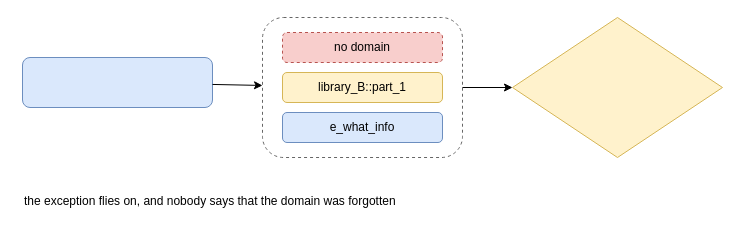
This 740x235 diagram has some shape labels left out. The shapes that lost their labels are listed below. From the top down, each one's box as (x1, y1, x2, y2) in pixels, then its label:
(22, 56, 212, 108): function_lib_B_part_1_miss_domain()
(512, 16, 722, 158): handler (library_B, part_1) does not match
